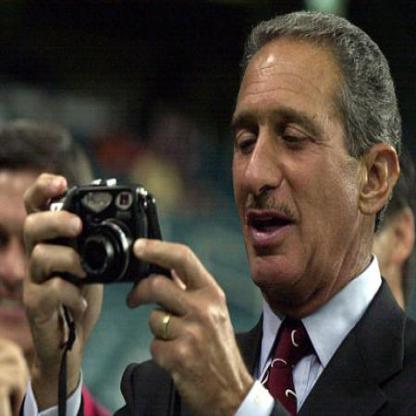face: (221, 20, 366, 303), (1, 127, 78, 358)
